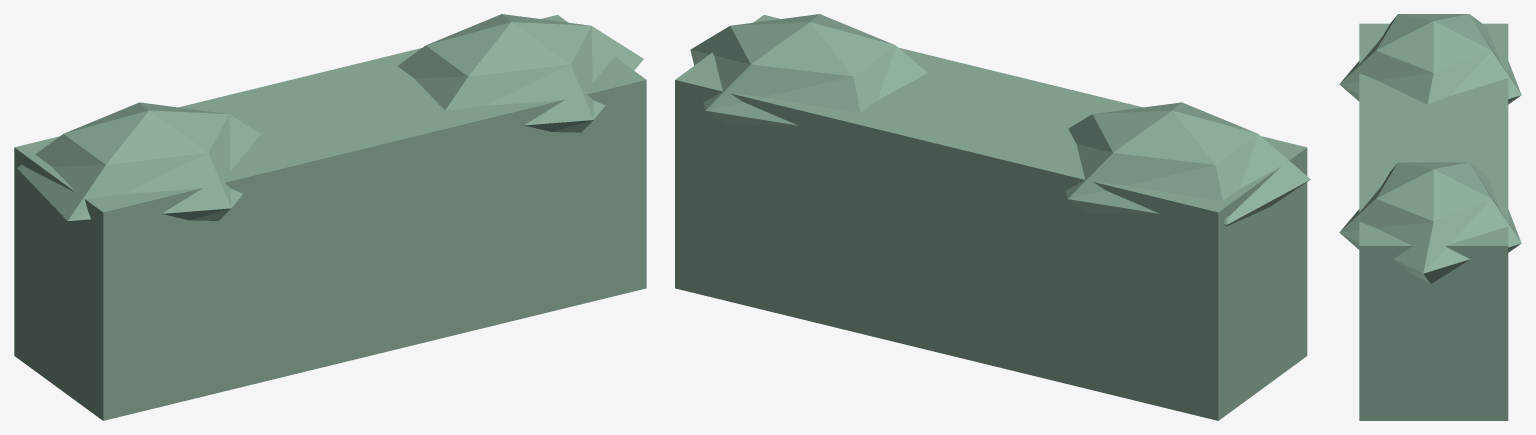
Rendered from shrub-hedge.glb.
The picture shows the model from 3 angles, left to right: view 1: azimuth 30°, elevation 25°; view 2: azimuth 150°, elevation 25°; view 3: azimuth 270°, elevation 25°; orthographic projection. The views are drawn at different scales.
Parts seen in each view (by area): view 1: shrub-hedge; view 2: shrub-hedge; view 3: shrub-hedge.
Part boxes in pixels (x1,y1,x2,y2): shrub-hedge: (14, 14, 646, 420); shrub-hedge: (675, 14, 1310, 420); shrub-hedge: (1339, 14, 1521, 420).
Bounding box in the file's own units: 3.3 × 1.35 × 1.04.
